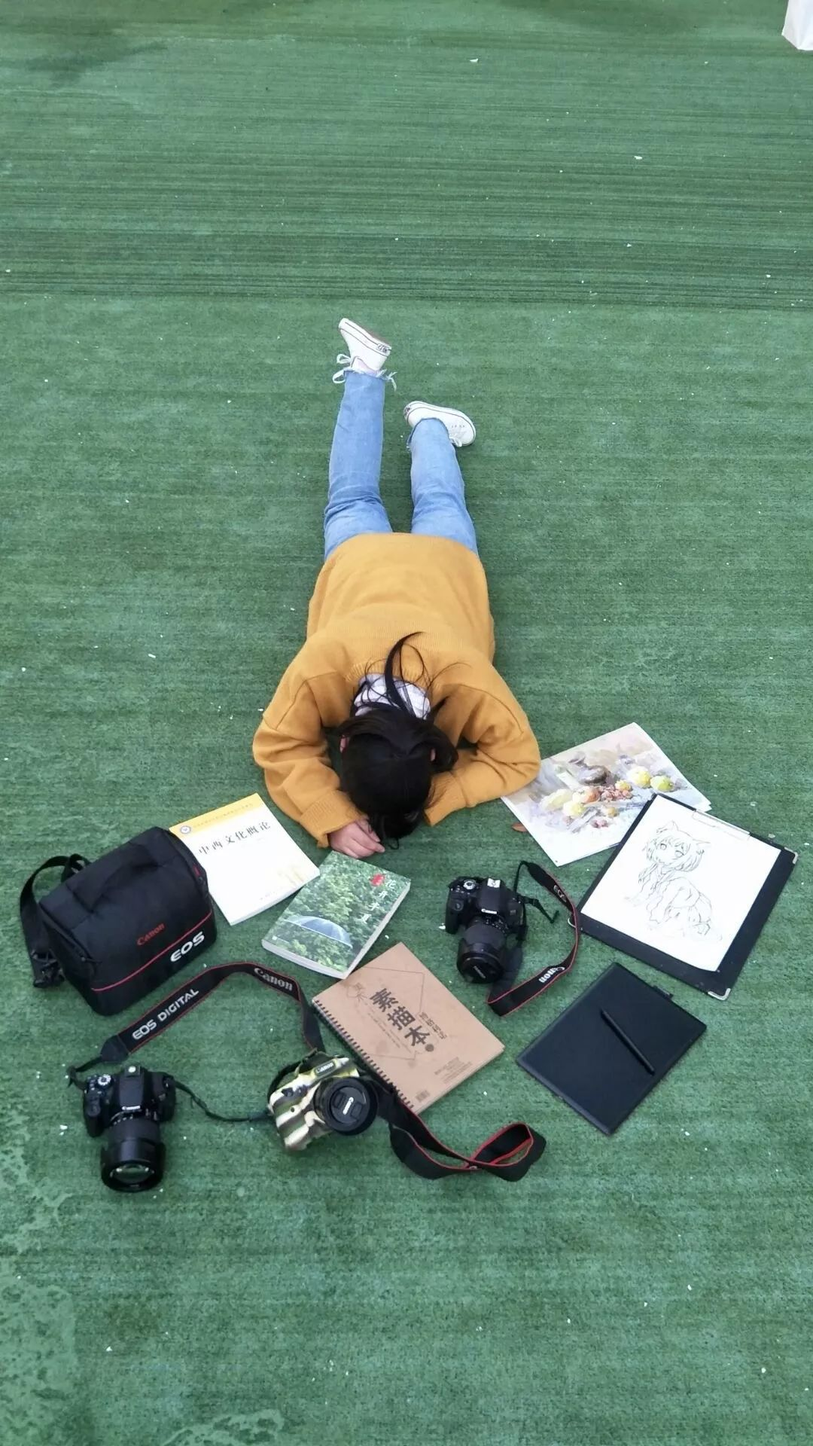down: (257, 297, 536, 874)
